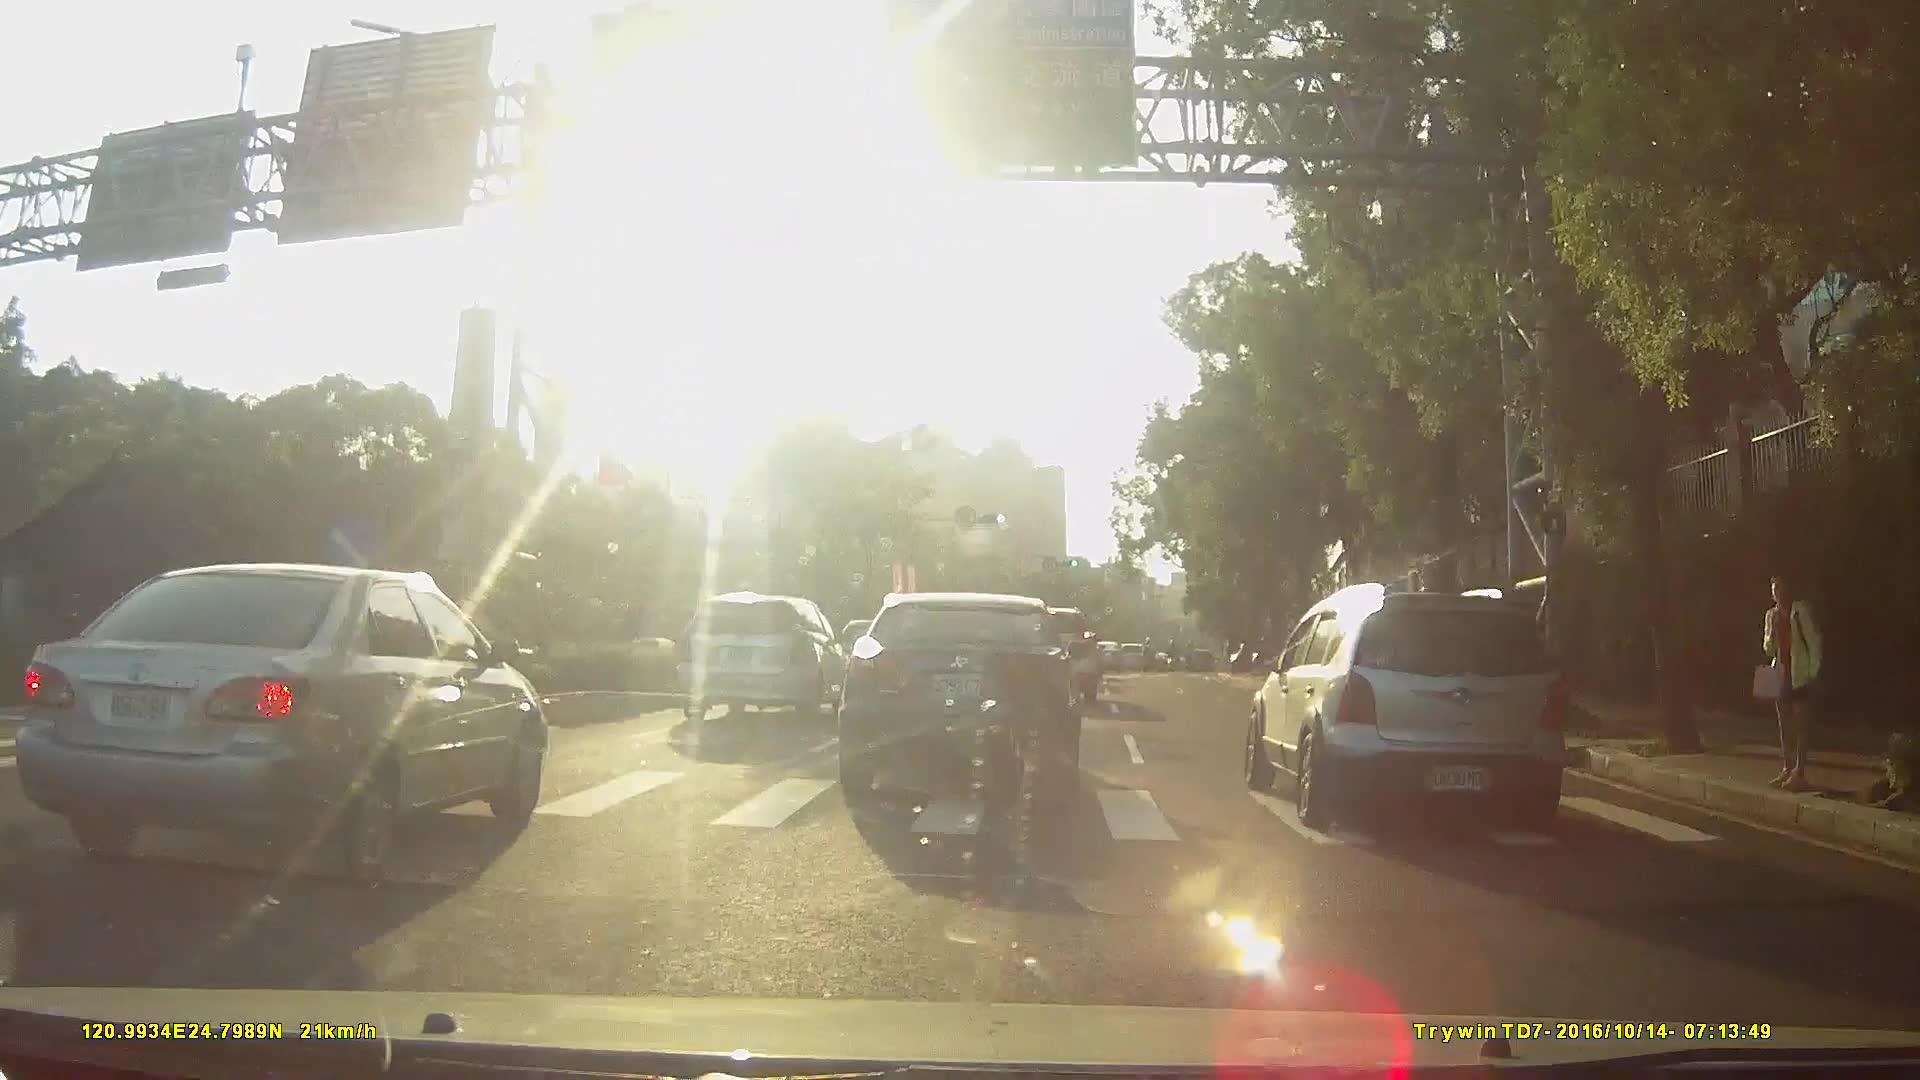pedestrian: (1754, 566, 1833, 793)
vehicle: (1, 559, 556, 888), (1226, 570, 1594, 839), (843, 592, 1100, 803), (664, 586, 847, 718), (1085, 634, 1120, 668), (1110, 636, 1145, 667)
